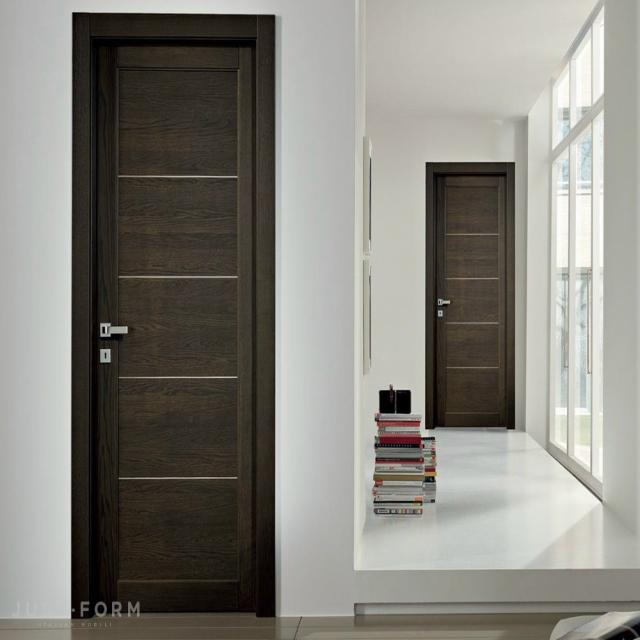close: (89, 39, 252, 603), (435, 178, 517, 434)
